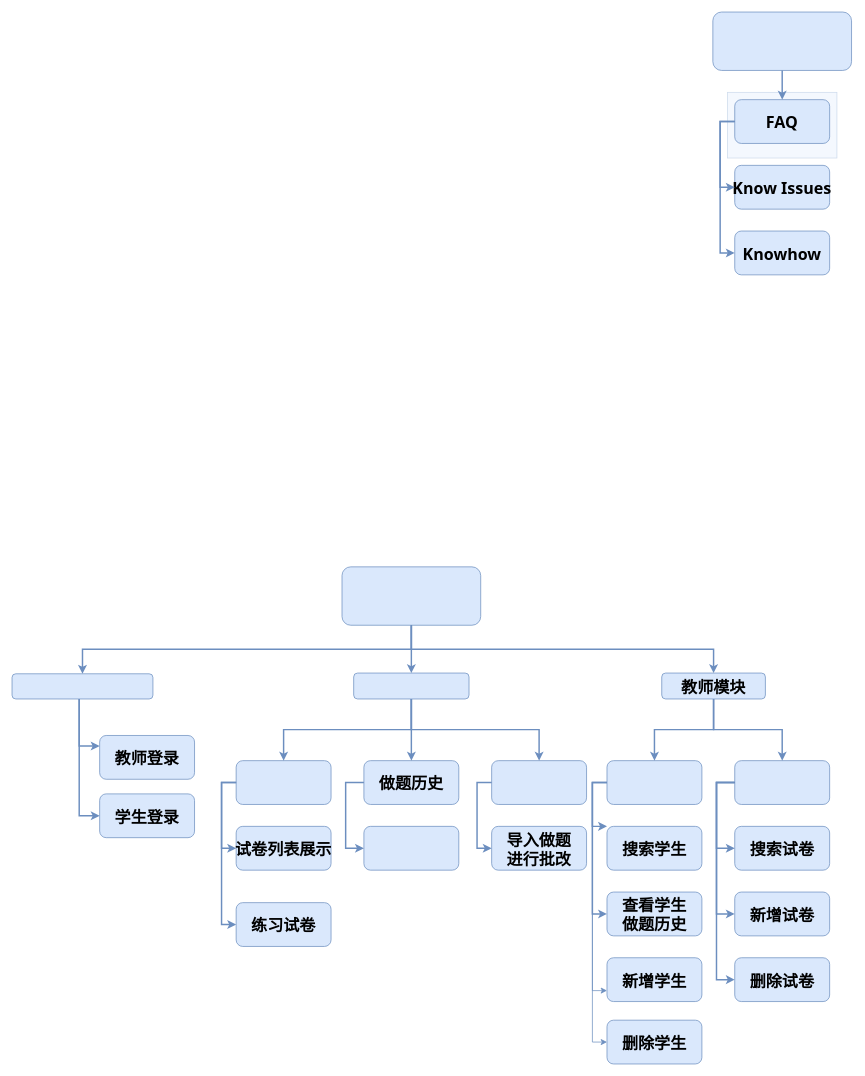
The diagram is 865 pixels wide and 1076 high, and some of its shapes have lost their labels. The centre of each missing label's shape, as x and y in pixels:
"Technical Support" goes at (x=782, y=40).
"口算练习器系统 功能结构图" goes at (x=411, y=595).
"在线练习" goes at (x=283, y=782).
"学生模块" goes at (x=411, y=685).
"学生管理" goes at (x=654, y=782).
"导入批改" goes at (x=539, y=782).
"显示做题历史" goes at (x=411, y=848).
"登录模块" goes at (x=82, y=686).
"试卷管理" goes at (x=782, y=782).
